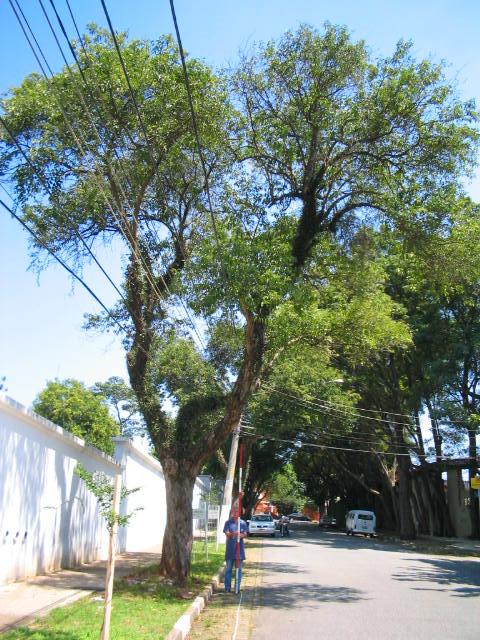crown: (4, 25, 475, 372)
stem: (146, 463, 209, 583)
stick: (228, 448, 246, 595)
tree: (1, 23, 476, 583)
